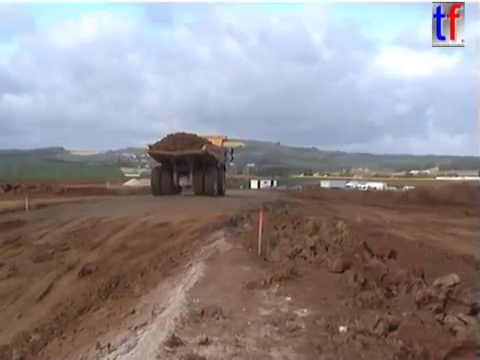truck: (144, 133, 235, 197)
